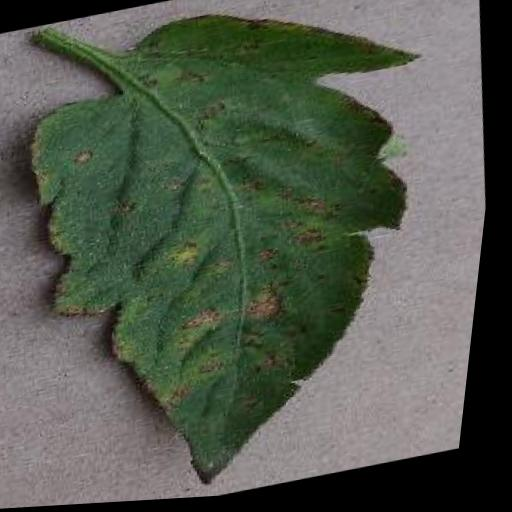Bacterial Spot: (0, 0, 491, 511)
